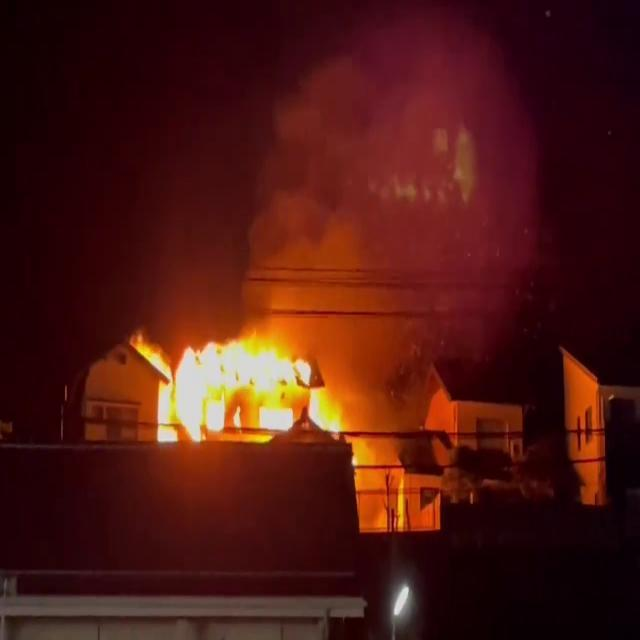Fire: (136, 323, 364, 449)
Smoke: (230, 2, 552, 354)
